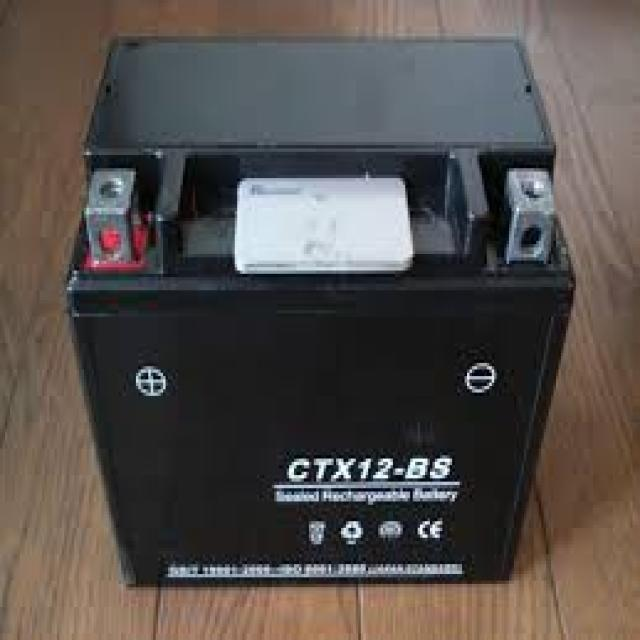b3: (58, 16, 583, 592)
